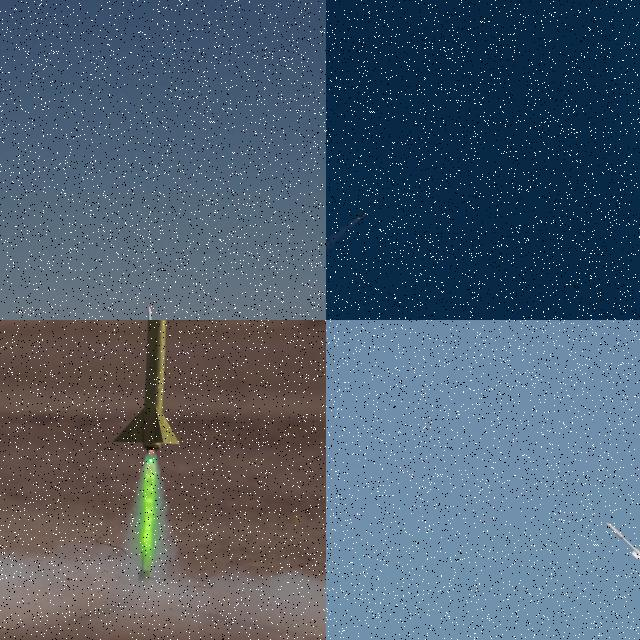Rocket: (113, 320, 183, 453), (606, 522, 640, 560), (143, 305, 159, 320), (356, 211, 368, 220)
